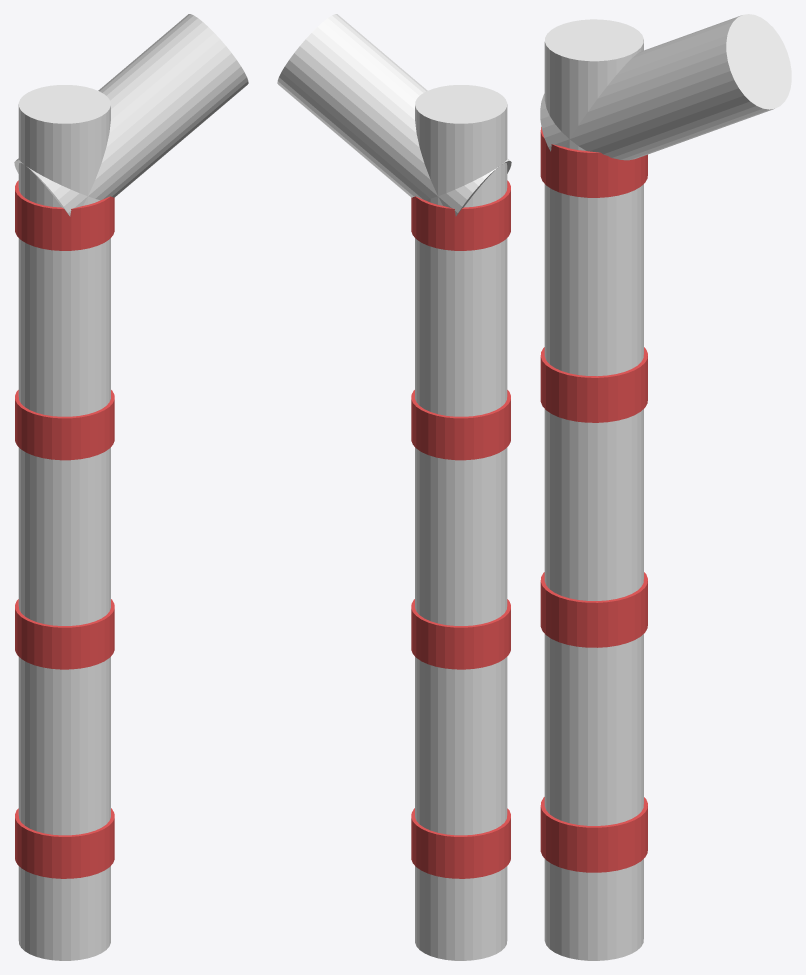
File: candy_cane.glb
3 views of the same model, side by side, from view 1: azimuth 30°, elevation 25°; view 2: azimuth 150°, elevation 25°; view 3: azimuth 330°, elevation 25° (orthographic). The views are drawn at different scales.
Parts seen in each view (by area): view 1: Cylinder, Cylinder.001, Cylinder.004, Cylinder.003, Cylinder.002, Cylinder.005; view 2: Cylinder, Cylinder.001, Cylinder.004, Cylinder.003, Cylinder.002, Cylinder.005; view 3: Cylinder, Cylinder.001, Cylinder.004, Cylinder.003, Cylinder.002, Cylinder.005.
Part boxes in pixels (x1=…): Cylinder: x1=18, y1=85, x2=110, y2=960; Cylinder.001: x1=14, y1=14, x2=248, y2=216; Cylinder.004: x1=15, y1=390, x2=114, y2=460; Cylinder.003: x1=15, y1=599, x2=114, y2=669; Cylinder.002: x1=15, y1=808, x2=114, y2=878; Cylinder.005: x1=15, y1=180, x2=114, y2=250; Cylinder: x1=415, y1=85, x2=507, y2=960; Cylinder.001: x1=277, y1=14, x2=511, y2=216; Cylinder.004: x1=411, y1=390, x2=510, y2=460; Cylinder.003: x1=411, y1=599, x2=510, y2=669; Cylinder.002: x1=411, y1=808, x2=510, y2=878; Cylinder.005: x1=411, y1=180, x2=510, y2=250; Cylinder: x1=544, y1=19, x2=643, y2=960; Cylinder.001: x1=540, y1=14, x2=791, y2=160; Cylinder.004: x1=540, y1=347, x2=647, y2=422; Cylinder.003: x1=540, y1=572, x2=647, y2=647; Cylinder.002: x1=540, y1=797, x2=647, y2=872; Cylinder.005: x1=540, y1=127, x2=647, y2=197.
Size of the model in its own units: 0.3249 by 1.28 by 0.13.
